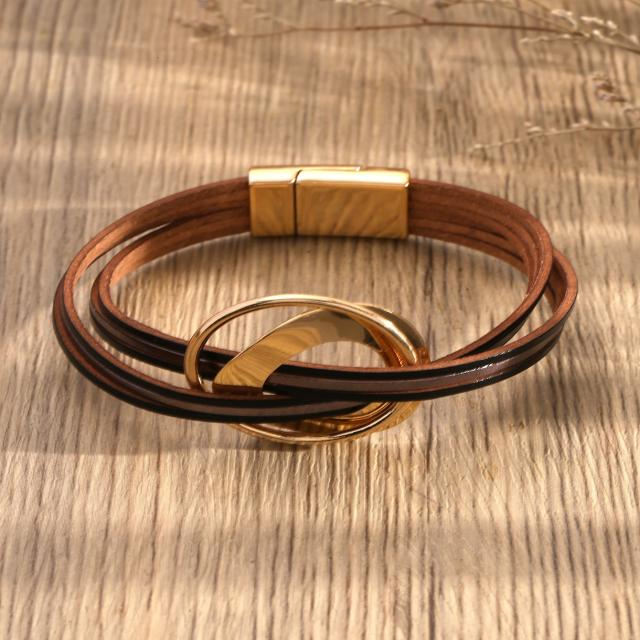bracelet: (17, 125, 640, 477)
